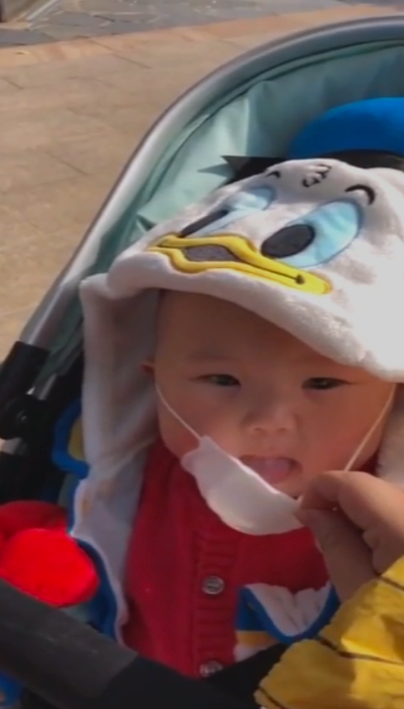mask_weared_incorrect: (132, 272, 403, 539)
